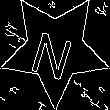N_N: (29, 19, 81, 79)
